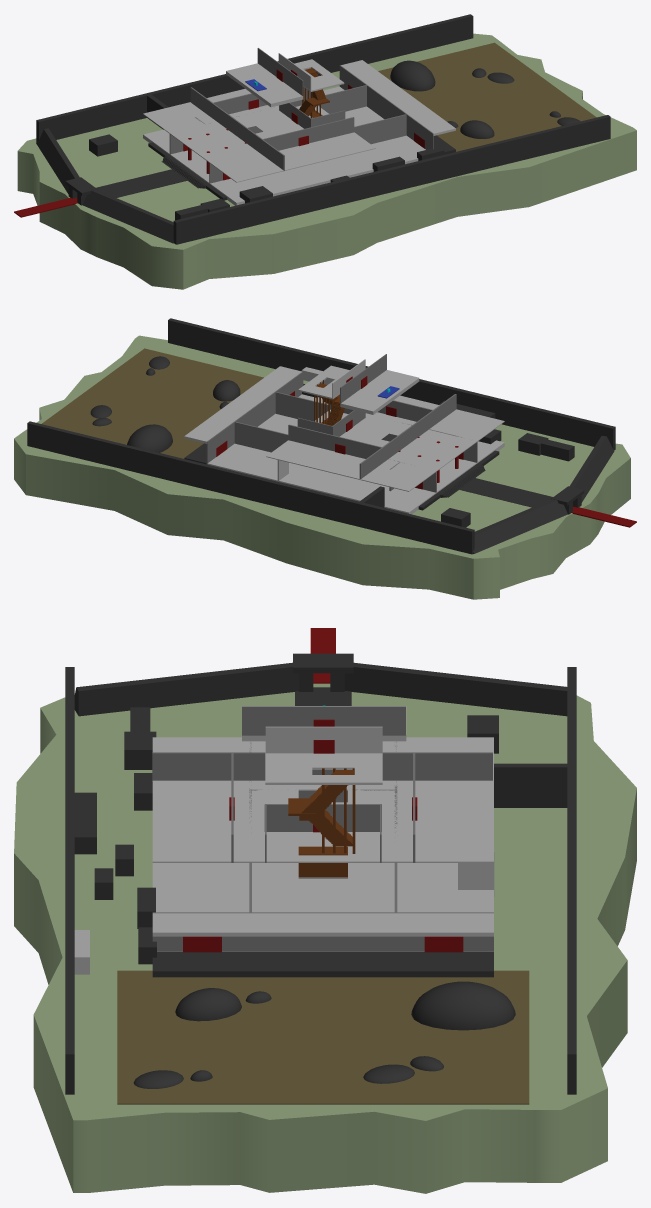
Rendered from Castle.fbx.
3 renders of one model, top to bottom at view 1: azimuth 30°, elevation 25°; view 2: azimuth 150°, elevation 25°; view 3: azimuth 270°, elevation 25°, orthographic. The views are drawn at different scales.
Parts seen in each view (by area): view 1: pCube1, pCube19, pCube167, pCube20, pCube76, pCube31, pCube6, pCube33, pCube30, pCube78, pCube145, pCube77 (+11 smaller); view 2: pCube1, pCube20, pCube167, pCube19, pCube76, pCube31, pCube6, pCube33, pCube30, pCube78, pCube145, pCube77 (+13 smaller); view 3: pCube1, pCube167, pCube76, pCube31, pCube6, pCube29, pCube30, pCube77, pCube84, pCube19, pCube20, pSphere1 (+14 smaller).
Boxes of the visible parts, x1=… form: pCube1: x1=17, y1=33, x2=636, y2=289; pCube19: x1=173, y1=115, x2=610, y2=244; pCube167: x1=378, y1=42, x2=596, y2=151; pCube20: x1=36, y1=14, x2=473, y2=141; pCube76: x1=143, y1=89, x2=375, y2=182; pCube31: x1=143, y1=86, x2=425, y2=205; pCube6: x1=36, y1=128, x2=173, y2=243; pCube33: x1=169, y1=85, x2=406, y2=183; pCube30: x1=341, y1=60, x2=455, y2=135; pCube78: x1=213, y1=88, x2=354, y2=150; pCube145: x1=226, y1=63, x2=303, y2=107; pCube77: x1=190, y1=87, x2=284, y2=170; pCube1: x1=14, y1=335, x2=630, y2=599; pCube20: x1=27, y1=421, x2=474, y2=554; pCube167: x1=42, y1=348, x2=263, y2=458; pCube19: x1=168, y1=318, x2=615, y2=450; pCube76: x1=266, y1=395, x2=504, y2=491; pCube31: x1=207, y1=394, x2=504, y2=514; pCube6: x1=473, y1=436, x2=614, y2=553; pCube33: x1=234, y1=392, x2=477, y2=492; pCube30: x1=184, y1=366, x2=301, y2=443; pCube78: x1=288, y1=394, x2=432, y2=458; pCube145: x1=340, y1=370, x2=419, y2=414; pCube77: x1=359, y1=394, x2=456, y2=478; pCube1: x1=14, y1=683, x2=636, y2=1193; pCube167: x1=117, y1=970, x2=529, y2=1104; pCube76: x1=152, y1=737, x2=493, y2=862; pCube31: x1=152, y1=787, x2=493, y2=951; pCube6: x1=74, y1=662, x2=567, y2=716; pCube29: x1=152, y1=952, x2=493, y2=977; pCube30: x1=152, y1=913, x2=493, y2=936; pCube77: x1=152, y1=752, x2=492, y2=781; pCube84: x1=152, y1=912, x2=493, y2=951; pCube19: x1=65, y1=667, x2=74, y2=1094; pCube20: x1=567, y1=667, x2=576, y2=1094; pSphere1: x1=411, y1=981, x2=515, y2=1030.
Size of the model in its own units: 185 by 40.37 by 99.16.
